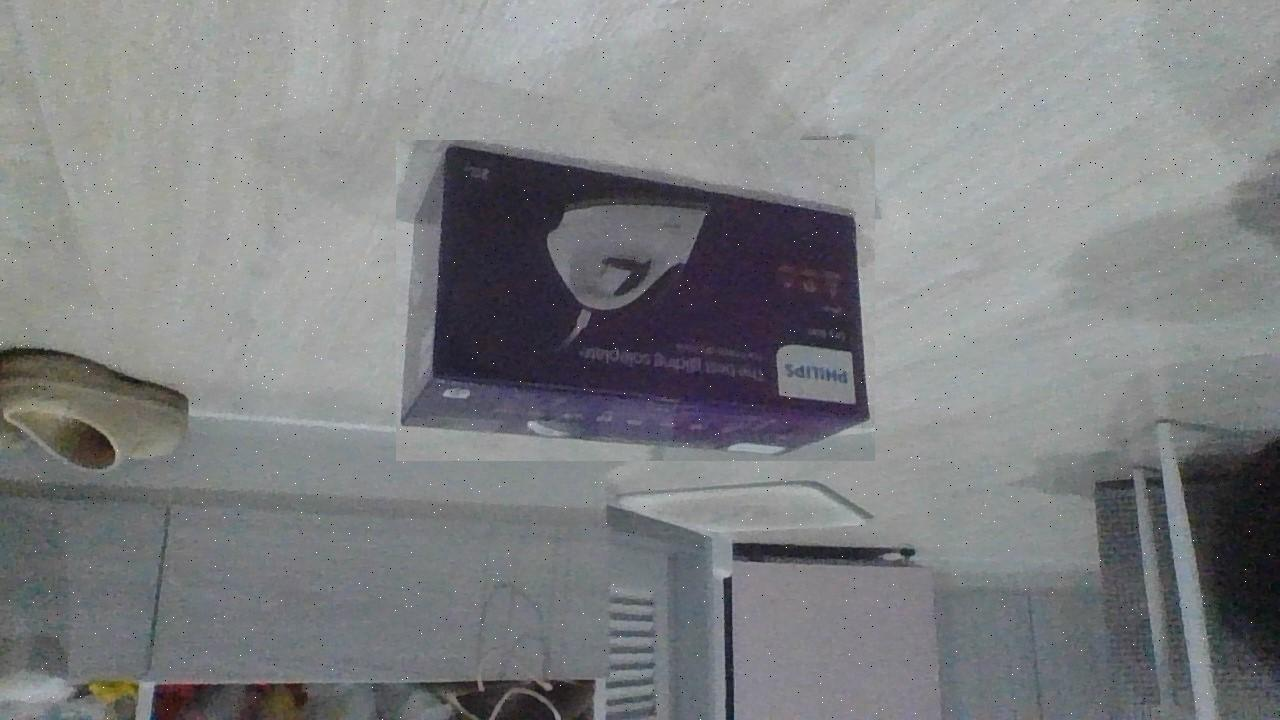IRON: (396, 140, 875, 461)
